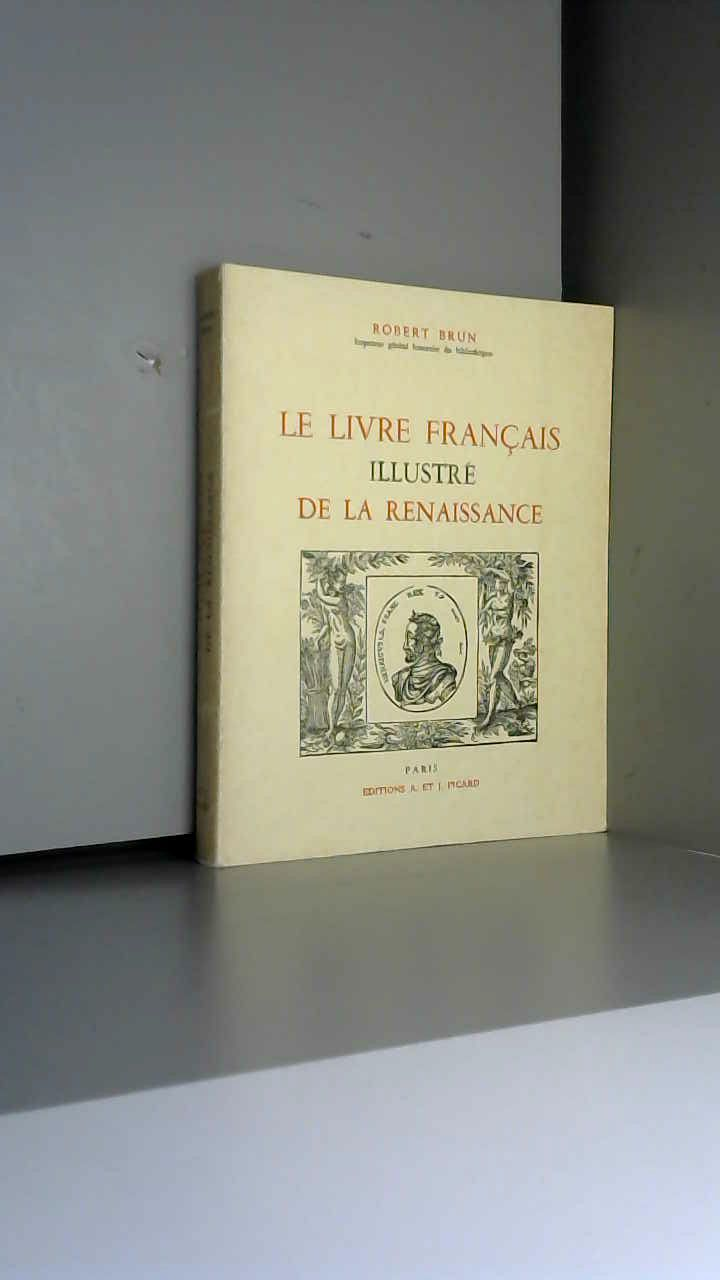book: (160, 230, 717, 887)
